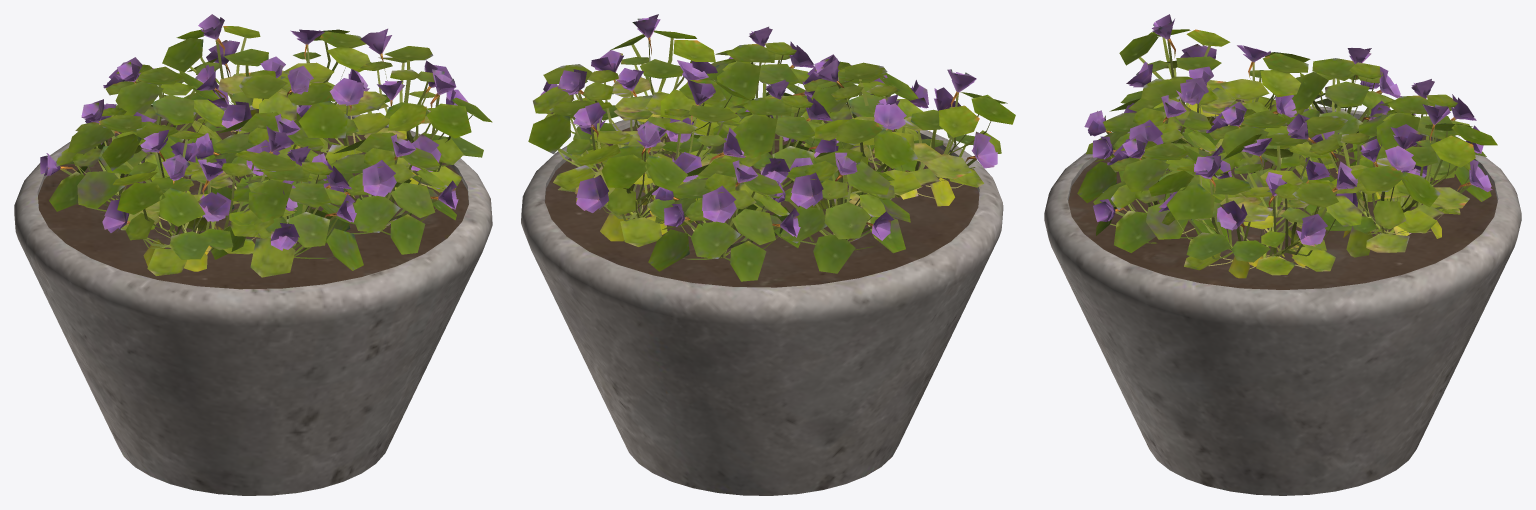
File: SM_Flowerpot_03.FBX
3 renders of one model, left to right at view 1: azimuth 30°, elevation 25°; view 2: azimuth 150°, elevation 25°; view 3: azimuth 270°, elevation 25°, orthographic.
Parts seen in each view (by area): view 1: SM_Flowerpot_03_LOD0; view 2: SM_Flowerpot_03_LOD0; view 3: SM_Flowerpot_03_LOD0.
Part boxes in pixels (x1,y1,x2,y2): SM_Flowerpot_03_LOD0: (14,14,492,495); SM_Flowerpot_03_LOD0: (521,14,1015,495); SM_Flowerpot_03_LOD0: (1044,14,1521,495).
Size of what is drawn, in the model's own units: 95.19 by 94.78 by 77.65.
